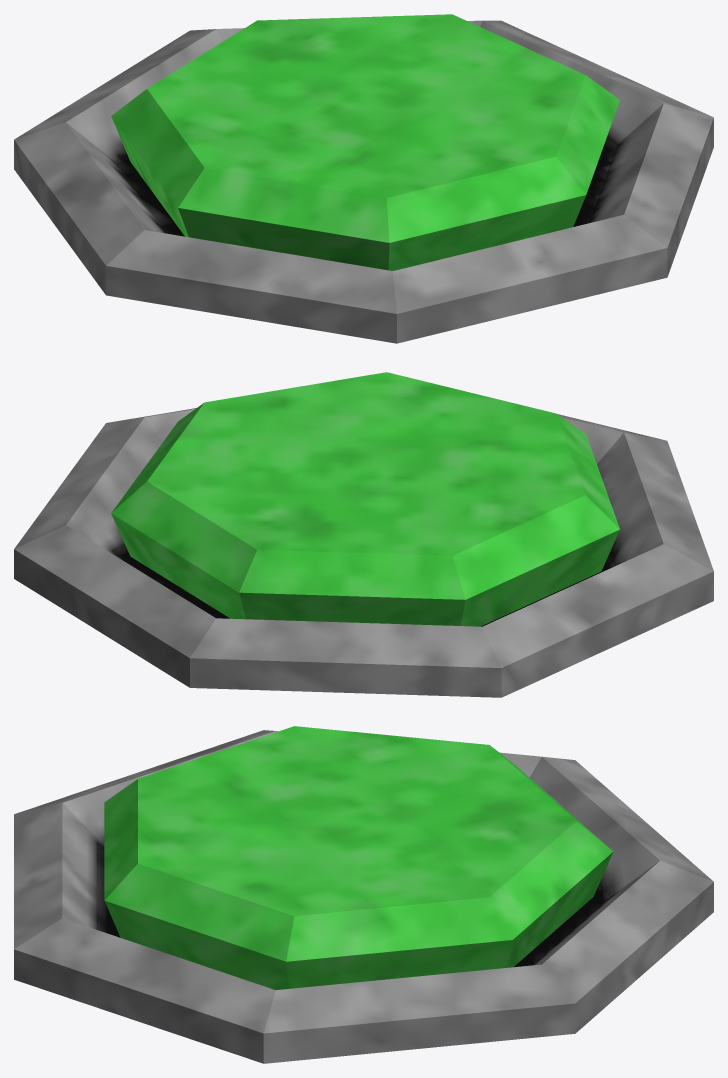
The model's file is round_button.fbx.
3 views of the same model, one above another, from view 1: azimuth 30°, elevation 25°; view 2: azimuth 150°, elevation 25°; view 3: azimuth 270°, elevation 25° (orthographic). The views are drawn at different scales.
Parts seen in each view (by area): view 1: кнопка круглая, основа круглая; view 2: кнопка круглая, основа круглая; view 3: кнопка круглая, основа круглая.
Boxes of the visible parts, x1,y1,x2,y2 form: кнопка круглая: (111, 14, 619, 270); основа круглая: (14, 20, 713, 343); кнопка круглая: (111, 372, 619, 626); основа круглая: (14, 408, 713, 697); кнопка круглая: (104, 726, 613, 989); основа круглая: (14, 730, 713, 1063).
Bounding box in the file's own units: 21.45 × 3 × 20.91.
